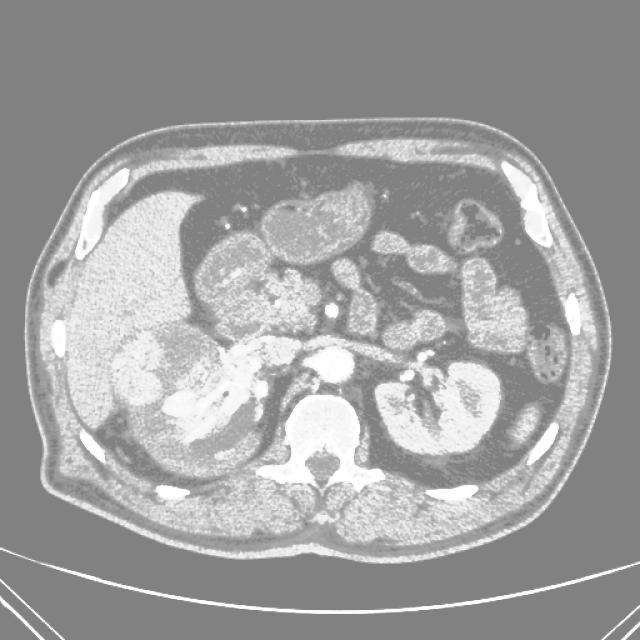TUMOR: (89, 311, 601, 511)
